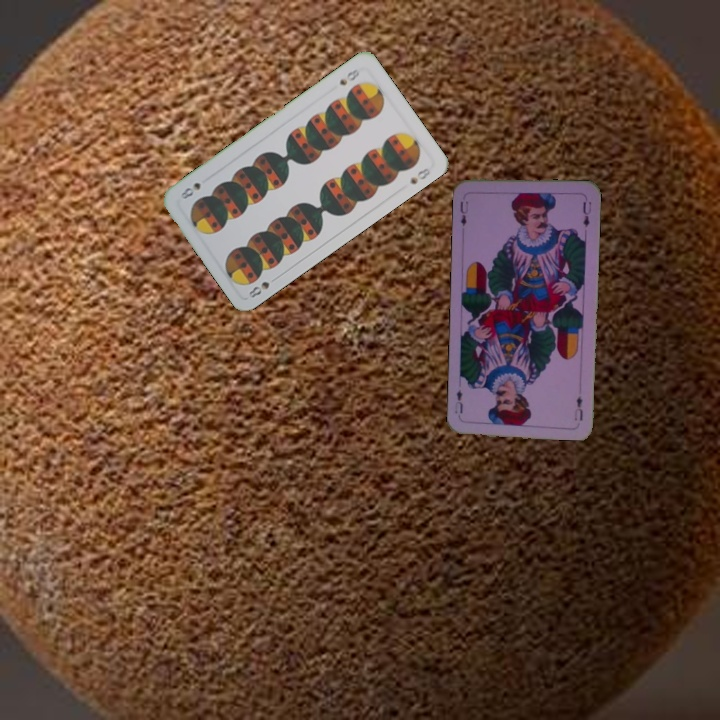EU: (456, 197, 471, 228), (571, 392, 585, 423)
S8: (244, 272, 281, 301), (335, 65, 363, 88)
